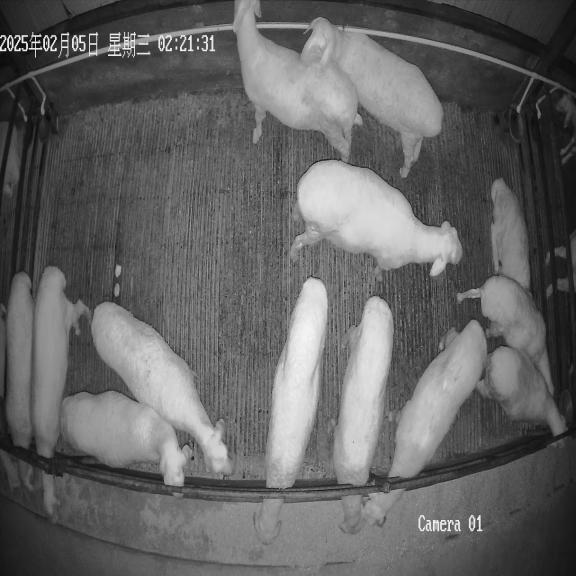eating: (361, 320, 487, 526), (254, 277, 328, 544), (31, 266, 91, 519), (333, 296, 394, 534), (5, 272, 40, 490)
lying: (491, 178, 530, 291)
stand: (91, 302, 232, 475), (302, 17, 443, 178), (289, 160, 462, 281), (233, 0, 361, 161), (61, 390, 191, 485), (457, 275, 554, 395), (477, 346, 566, 435)
